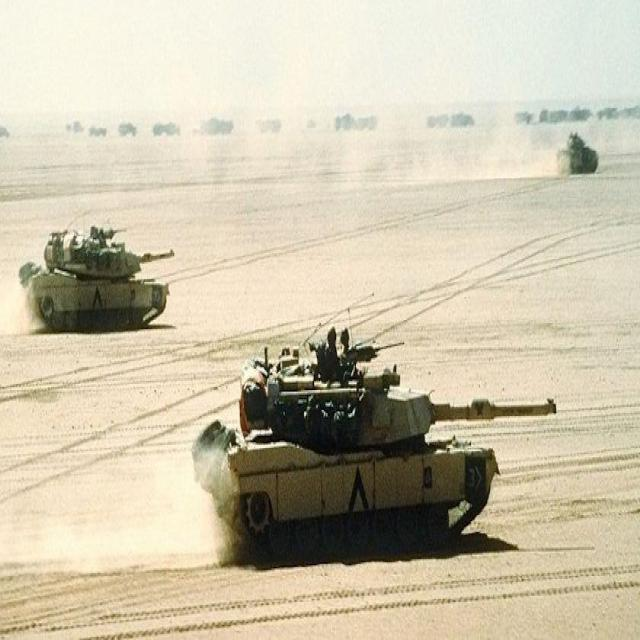Tanks: (182, 310, 543, 592), (7, 148, 193, 375)
